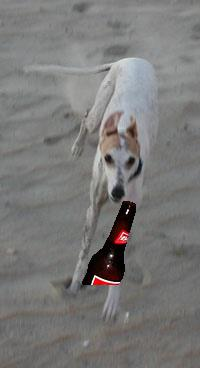tampered: (83, 202, 136, 285)
